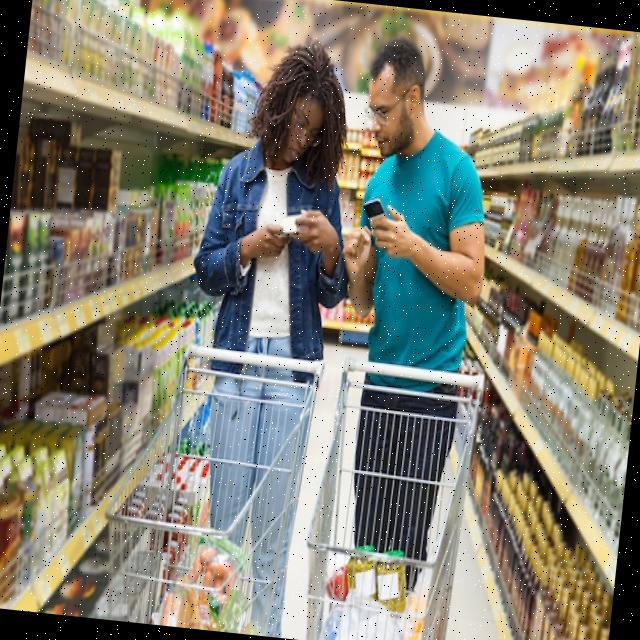Person: (156, 31, 372, 640), (312, 34, 508, 562)
